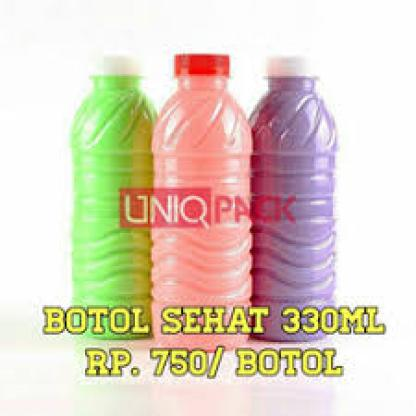Glass Bottle: (149, 53, 255, 352), (242, 53, 342, 346), (68, 52, 158, 342)
